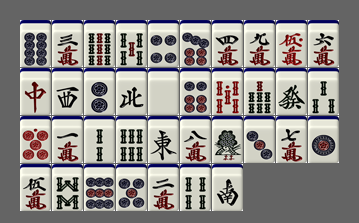0m: (276, 20, 307, 67)
0p: (20, 116, 51, 163)
0s: (212, 68, 243, 115)
1m: (52, 116, 83, 163)
1p: (308, 116, 339, 163)
1s: (212, 116, 243, 163)
1z: (148, 116, 179, 163)
2m: (148, 164, 179, 211)
2p: (84, 68, 115, 115)
2s: (84, 116, 115, 163)
2z: (212, 164, 243, 211)
3m: (52, 20, 83, 67)
3p: (244, 116, 275, 163)
3s: (308, 68, 339, 115)
3z: (52, 68, 83, 115)
4m: (212, 20, 243, 67)
4p: (148, 20, 179, 67)
4s: (180, 164, 211, 211)
4z: (116, 68, 147, 115)
5m: (20, 164, 51, 211)
5p: (116, 164, 147, 211)
5s: (116, 20, 147, 67)
5z: (148, 68, 179, 115)
6m: (308, 20, 339, 67)
6p: (180, 68, 211, 115)
6s: (116, 116, 147, 163)
6z: (276, 68, 307, 115)
7m: (276, 116, 307, 163)
7p: (180, 20, 211, 67)
7s: (244, 68, 275, 115)
7z: (20, 68, 51, 115)
8m: (180, 116, 211, 163)
8p: (20, 20, 51, 67)
8s: (52, 164, 83, 211)
9m: (244, 20, 275, 67)
9p: (84, 164, 115, 211)
9s: (84, 20, 115, 67)
